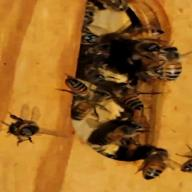Bee: (142, 147, 180, 183), (4, 109, 42, 143), (154, 47, 192, 81), (48, 78, 106, 98), (64, 90, 96, 121)
